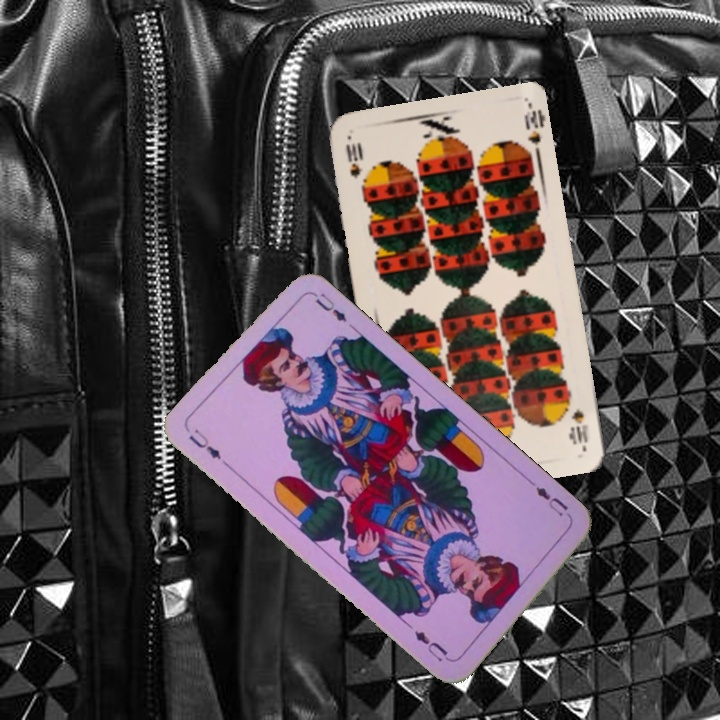EU: (526, 477, 574, 522), (185, 424, 225, 463)
S10: (567, 404, 591, 450), (341, 138, 364, 181)
